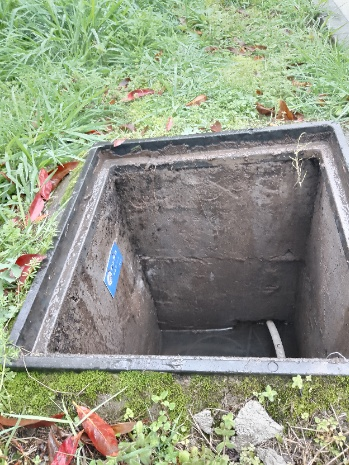lose: (3, 121, 349, 377)
